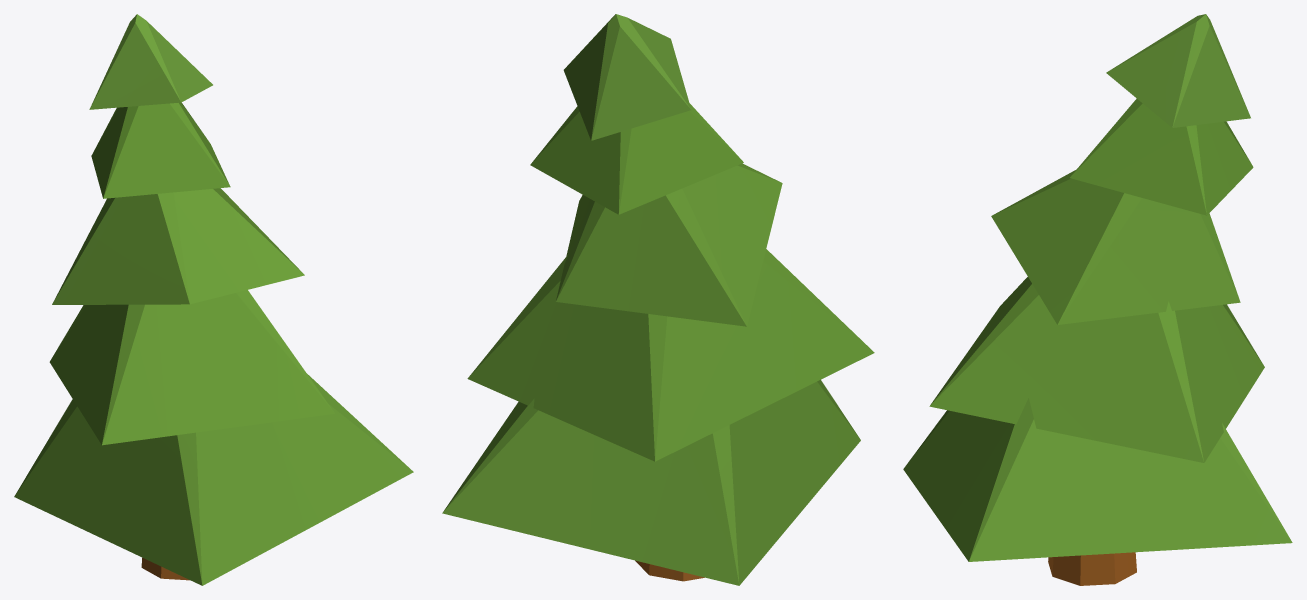
Rendered from tree_3_green.fbx.
The picture shows the model from 3 angles, left to right: view 1: azimuth 30°, elevation 25°; view 2: azimuth 150°, elevation 25°; view 3: azimuth 270°, elevation 25°; orthographic projection. The views are drawn at different scales.
Parts seen in each view (by area): view 1: tree_3_green; view 2: tree_3_green; view 3: tree_3_green.
Boxes of the visible parts, <box> form: tree_3_green: <box>14,14,413,585</box>; tree_3_green: <box>442,14,874,585</box>; tree_3_green: <box>903,14,1292,585</box>.
Bounding box in the file's own units: 373 × 611 × 387.
